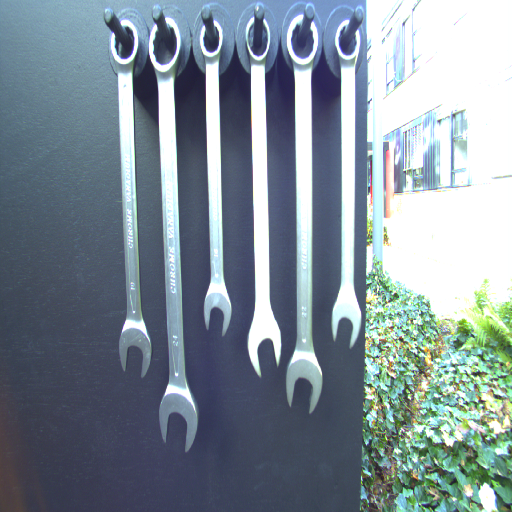bottom: (157, 385, 202, 457), (283, 354, 326, 417), (245, 315, 284, 379), (116, 315, 153, 382), (328, 291, 362, 349), (201, 283, 236, 338)
top: (145, 16, 183, 77), (287, 15, 321, 72), (107, 18, 140, 72), (331, 17, 364, 71), (241, 14, 273, 68), (197, 19, 227, 64)
